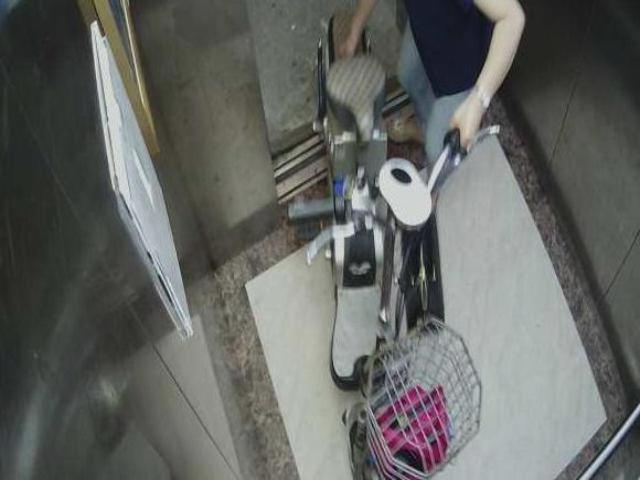emotor: (286, 17, 492, 480)
